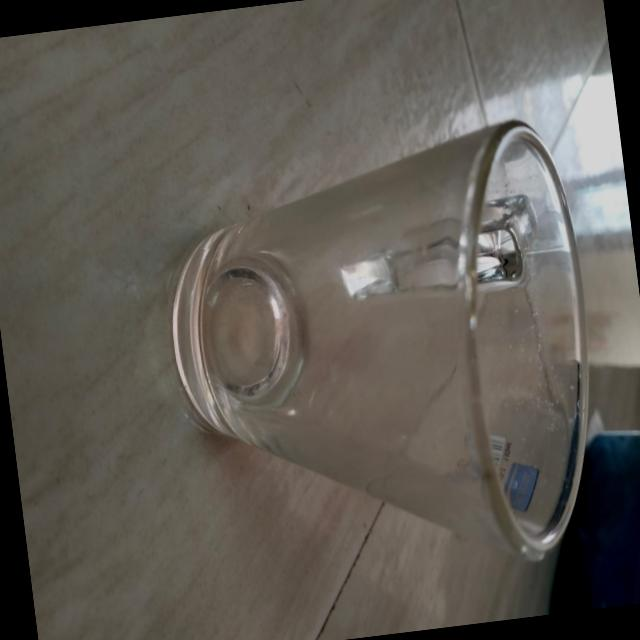glass-VX4N: (151, 116, 614, 599)
